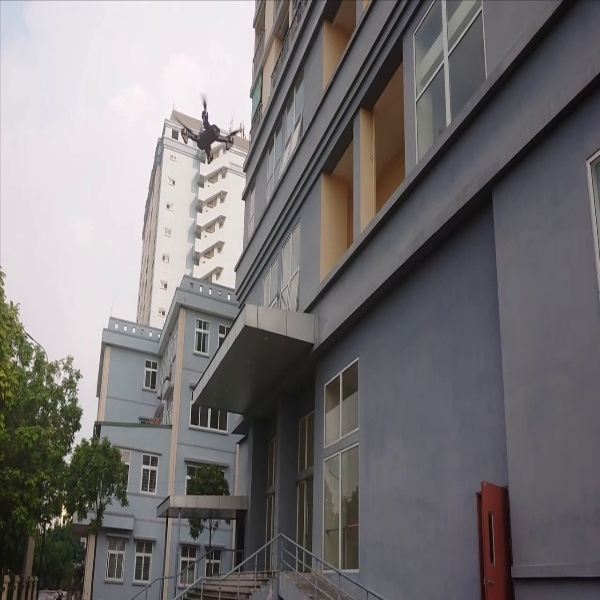drone: (172, 92, 248, 171)
